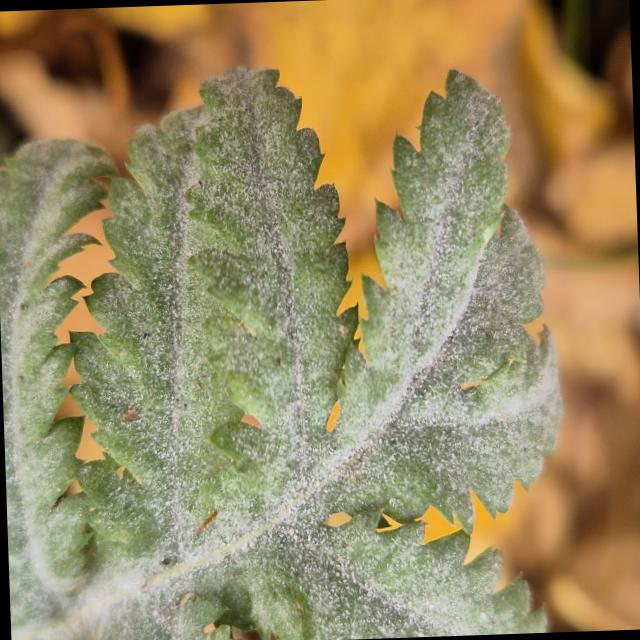powdery_mildew: (0, 68, 560, 640)
